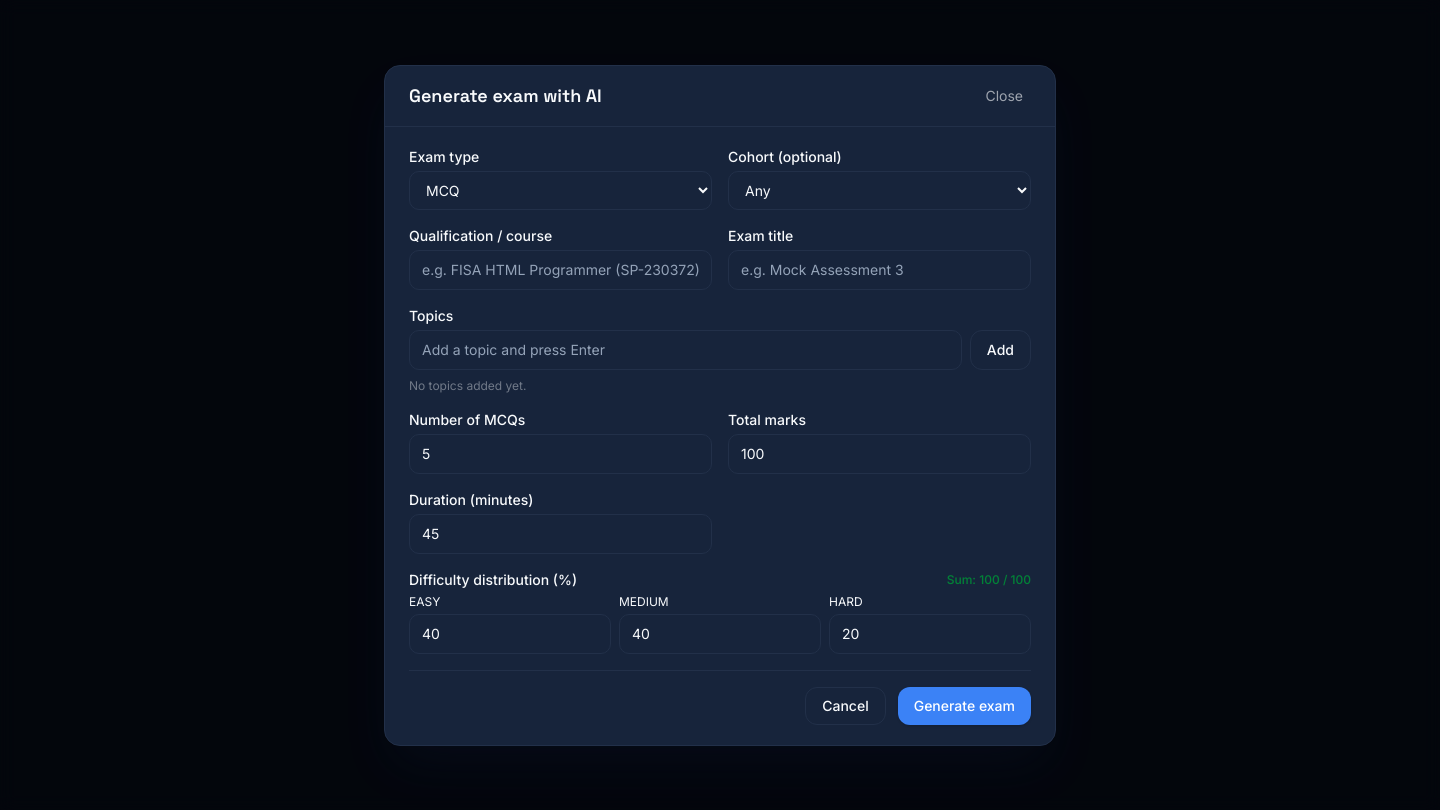
Test case: GenerateExamModal — error handling per status code › shows a clear message when AI generation is not configured (503)
The image size is (1440, 810).
Type "FISA HTML Programmer (SP-230372)" into the field with placeholder "e.g. FISA HTML Programmer (SP-230372)" at (560, 270), box [409,250,712,290]
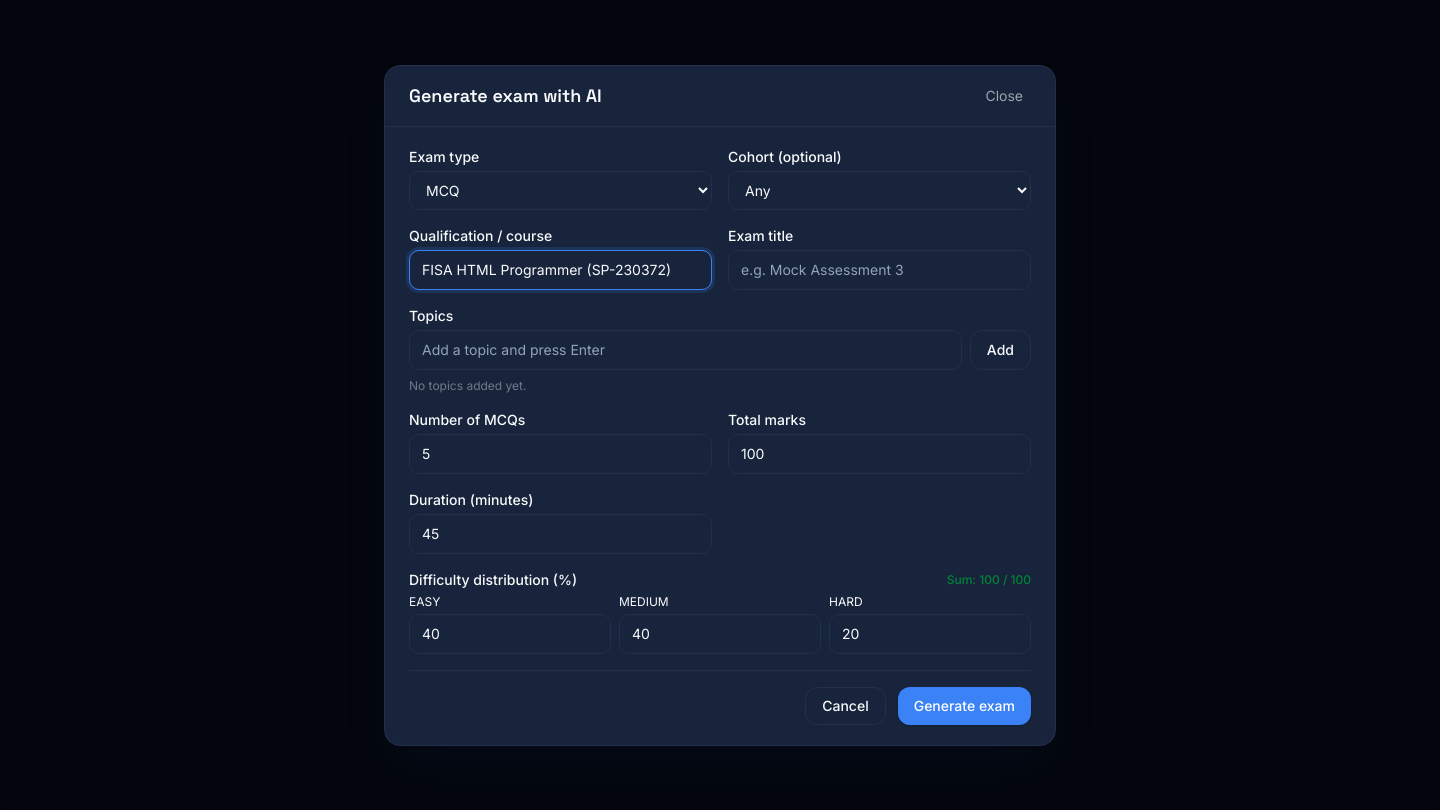
Type "Mock Assessment 3" into the field with placeholder "e.g. Mock Assessment 3" at (880, 270), box [728,250,1031,290]
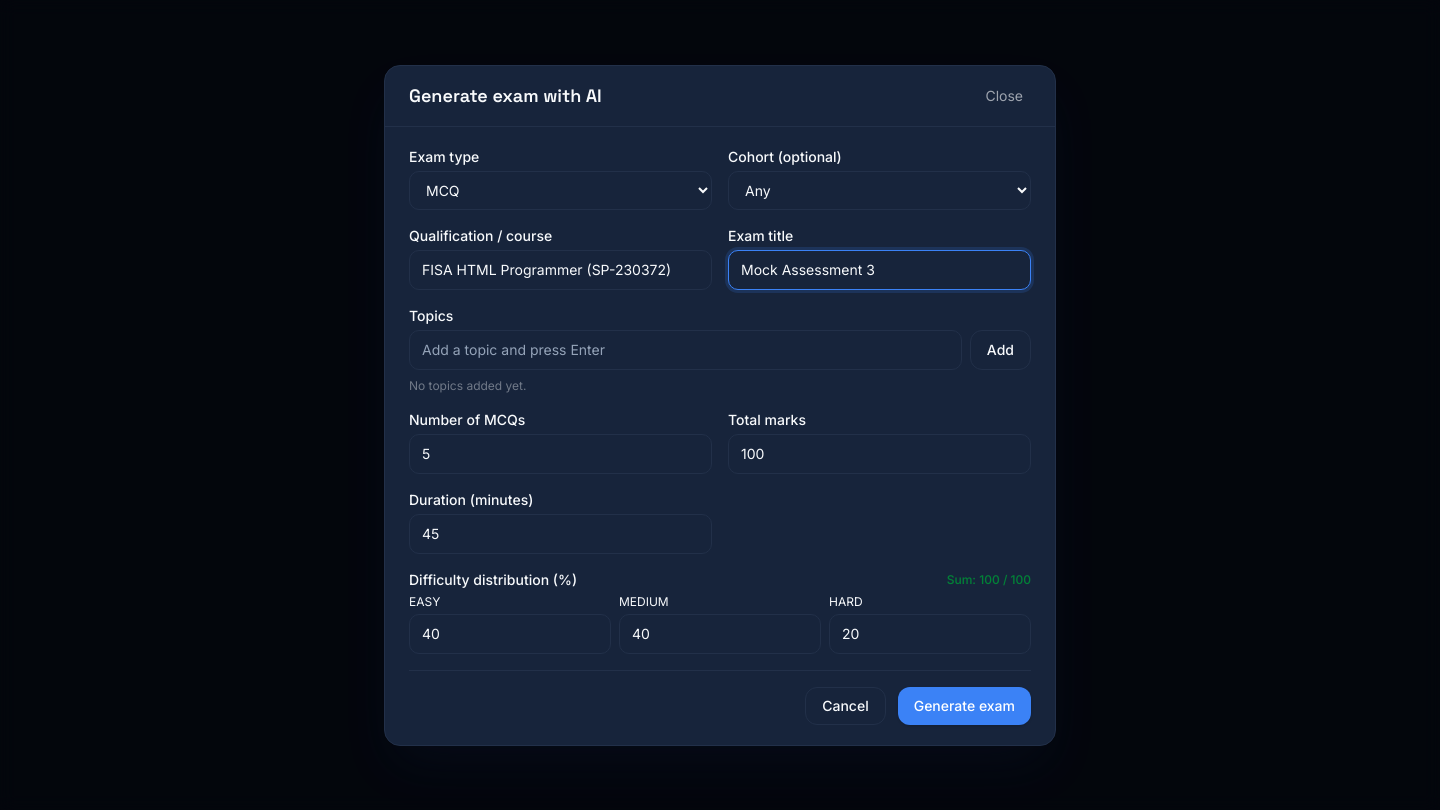
Type "Flexbox" into the field with placeholder "Add a topic and press Enter" at (685, 350), box [409,330,962,370]
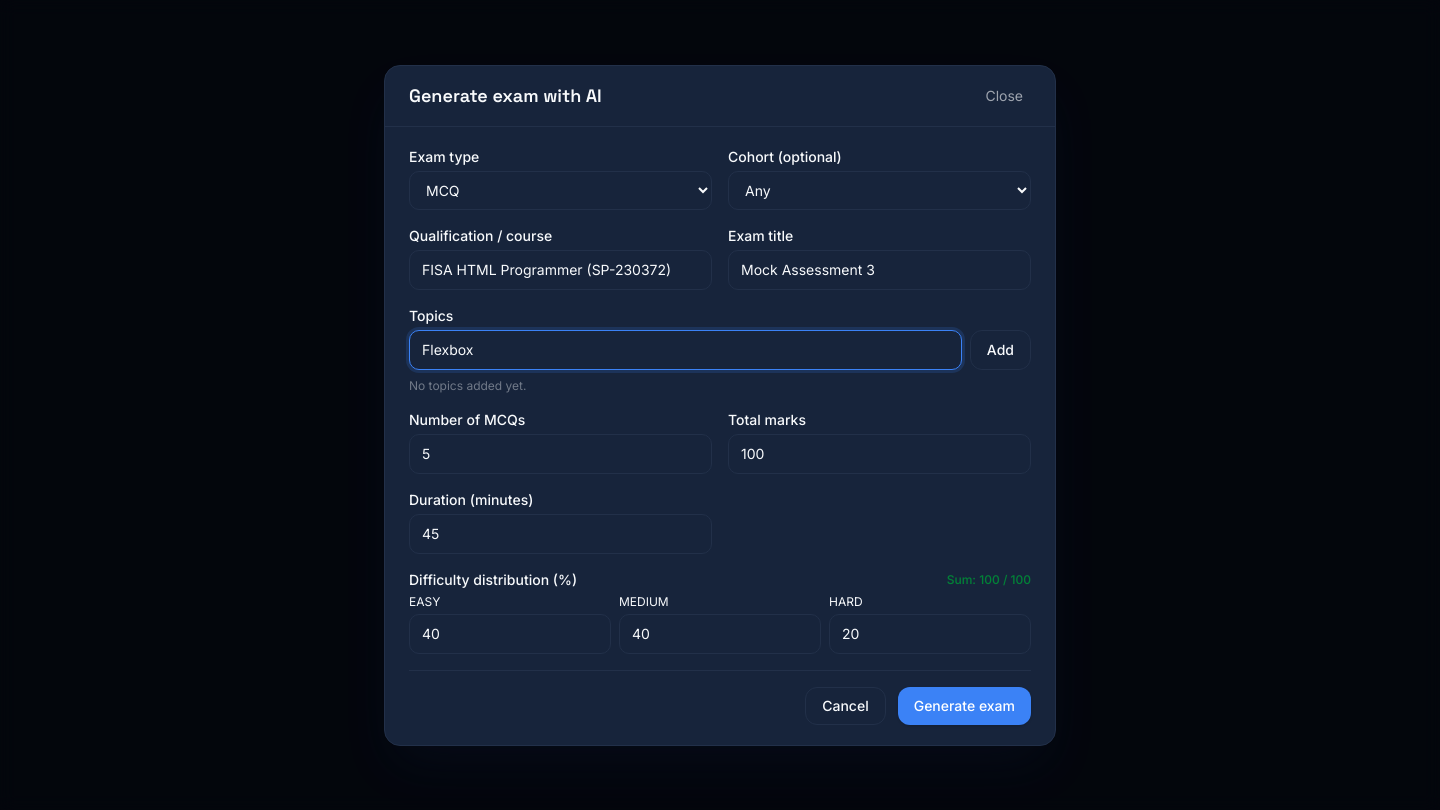
Click the button "Add" at (1000, 350), box [970,330,1031,370]
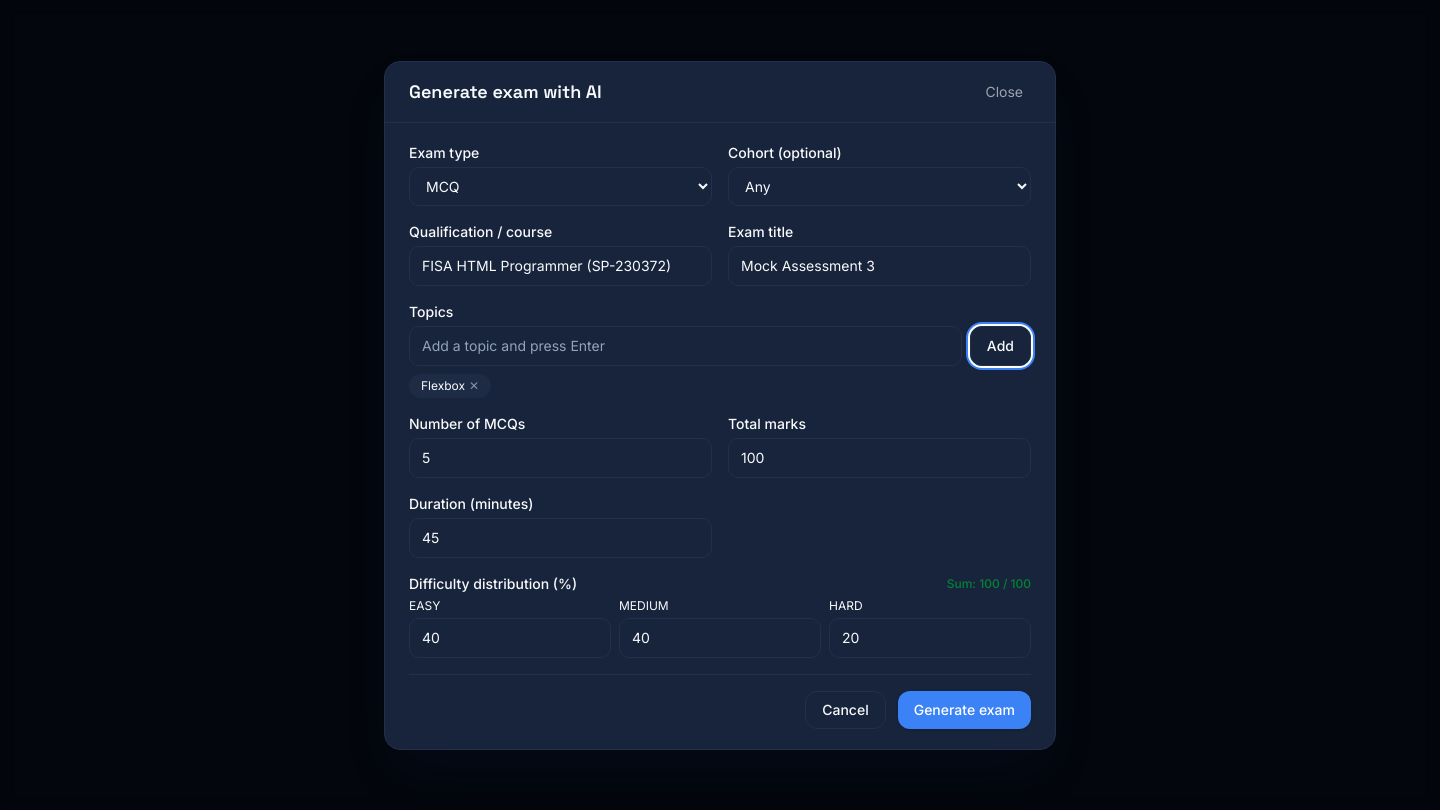
Click the button "Generate exam" at (964, 710), box [898,690,1031,728]
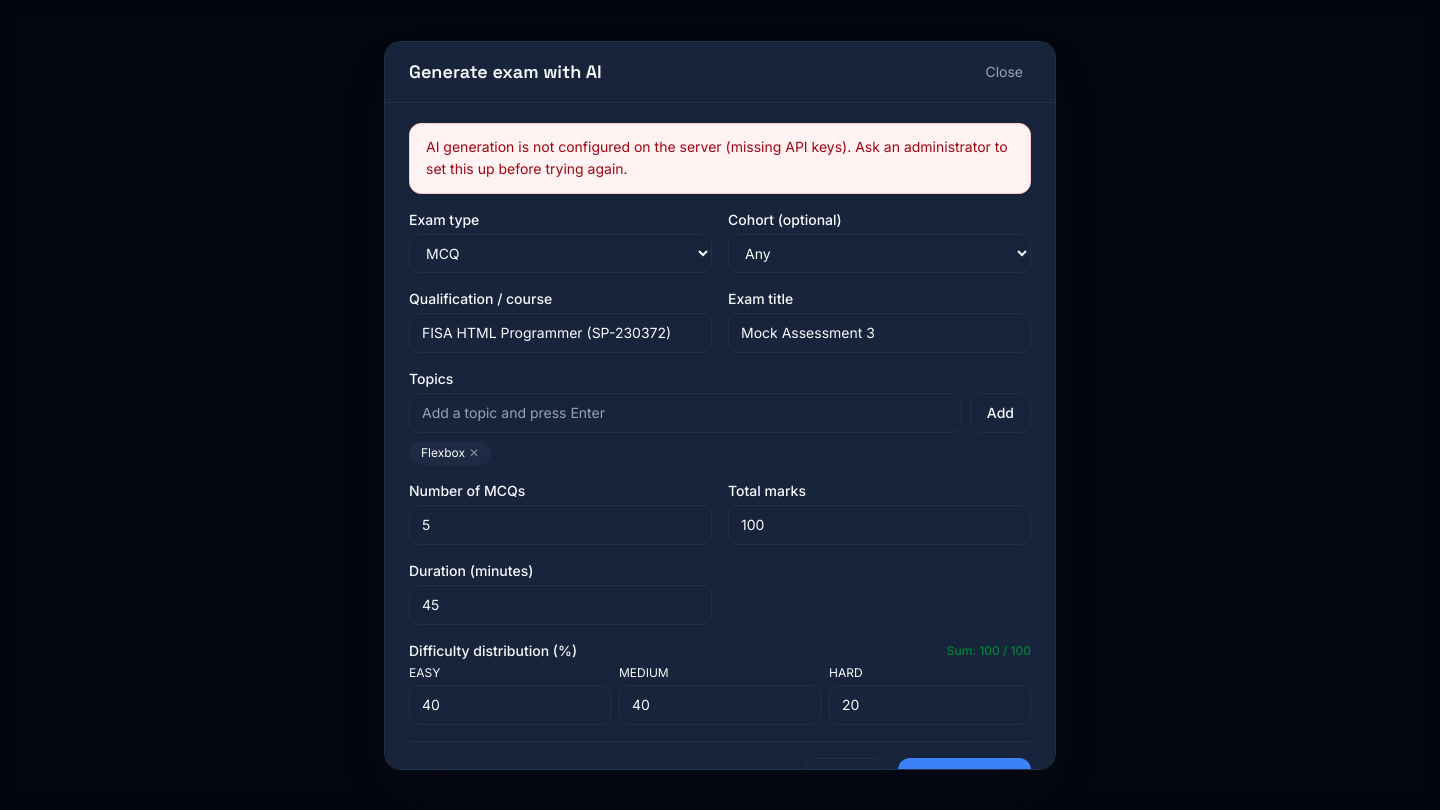
Expected: the text "not configured on the server" is shown, [426,138,1008,177]
